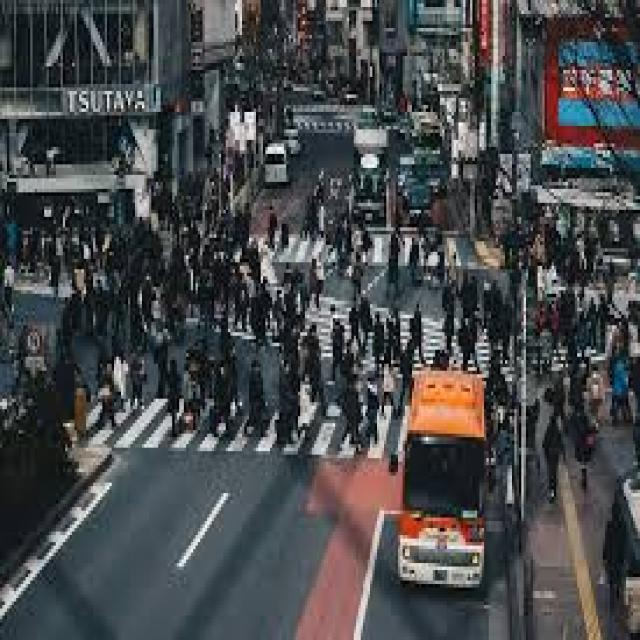Buses: (396, 367, 493, 591)
